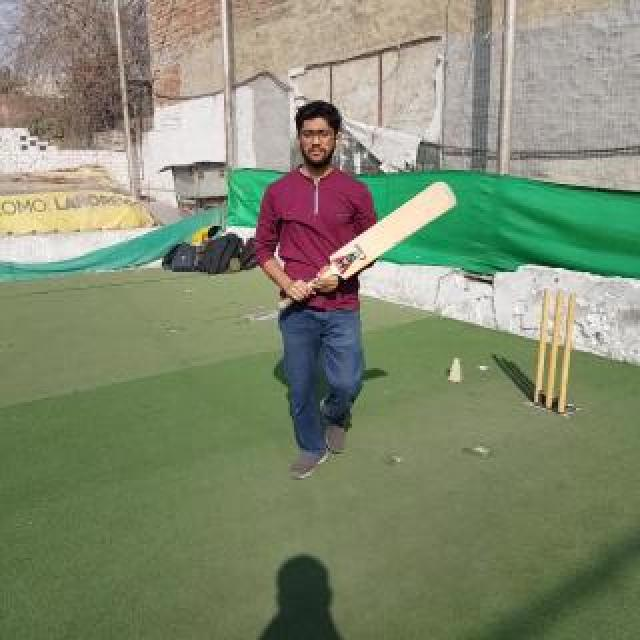bat: (278, 180, 458, 310)
